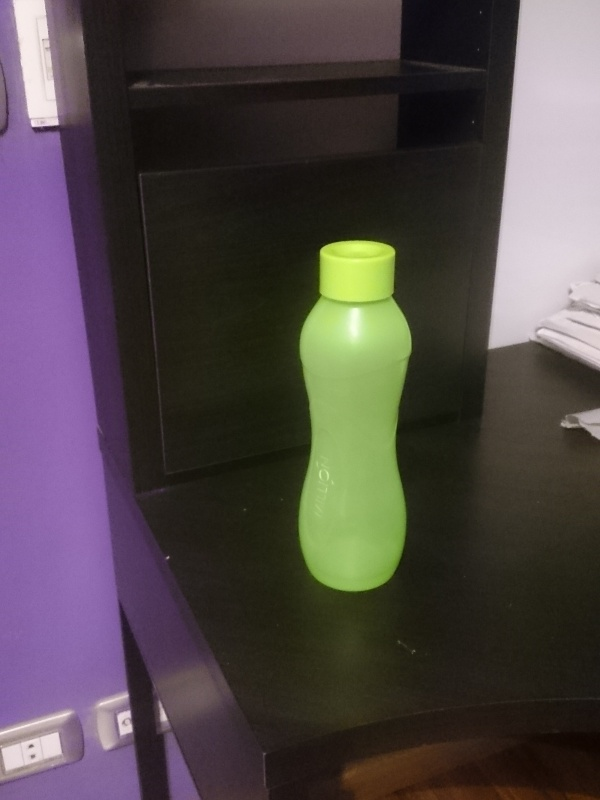my bottle: (295, 235, 416, 594)
